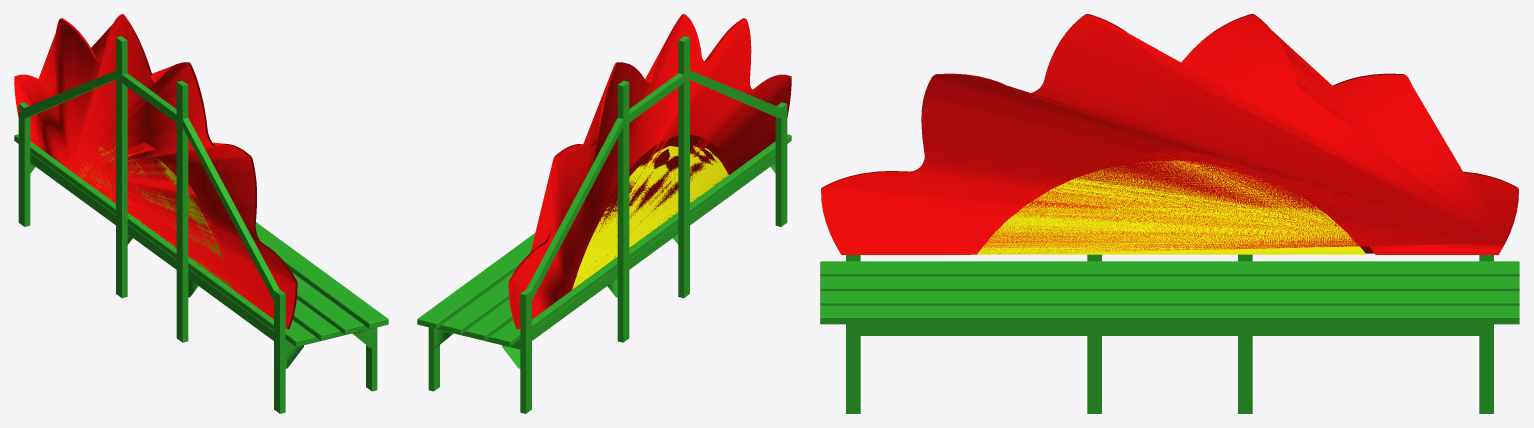
3 renders of one model, left to right at view 1: azimuth 30°, elevation 25°; view 2: azimuth 150°, elevation 25°; view 3: azimuth 270°, elevation 25°, orthographic. The views are drawn at different scales.
Parts seen in each view (by area): view 1: B_04_2; view 2: B_04_2; view 3: B_04_2.
Part boxes in pixels (left/top/right/bottom): B_04_2: left=14, top=14, right=388, bottom=413; B_04_2: left=417, top=14, right=791, bottom=413; B_04_2: left=820, top=14, right=1519, bottom=413.
Bounding box in the file's own units: 52.5 × 141 × 260.
